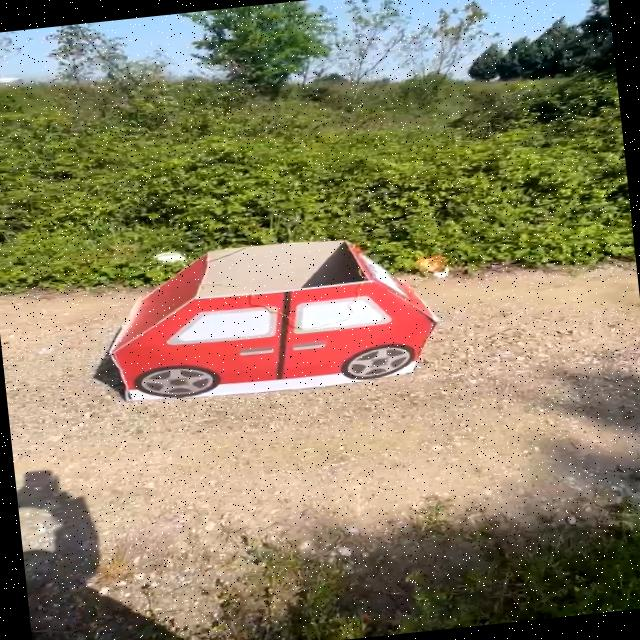red_car: (72, 212, 486, 424)
